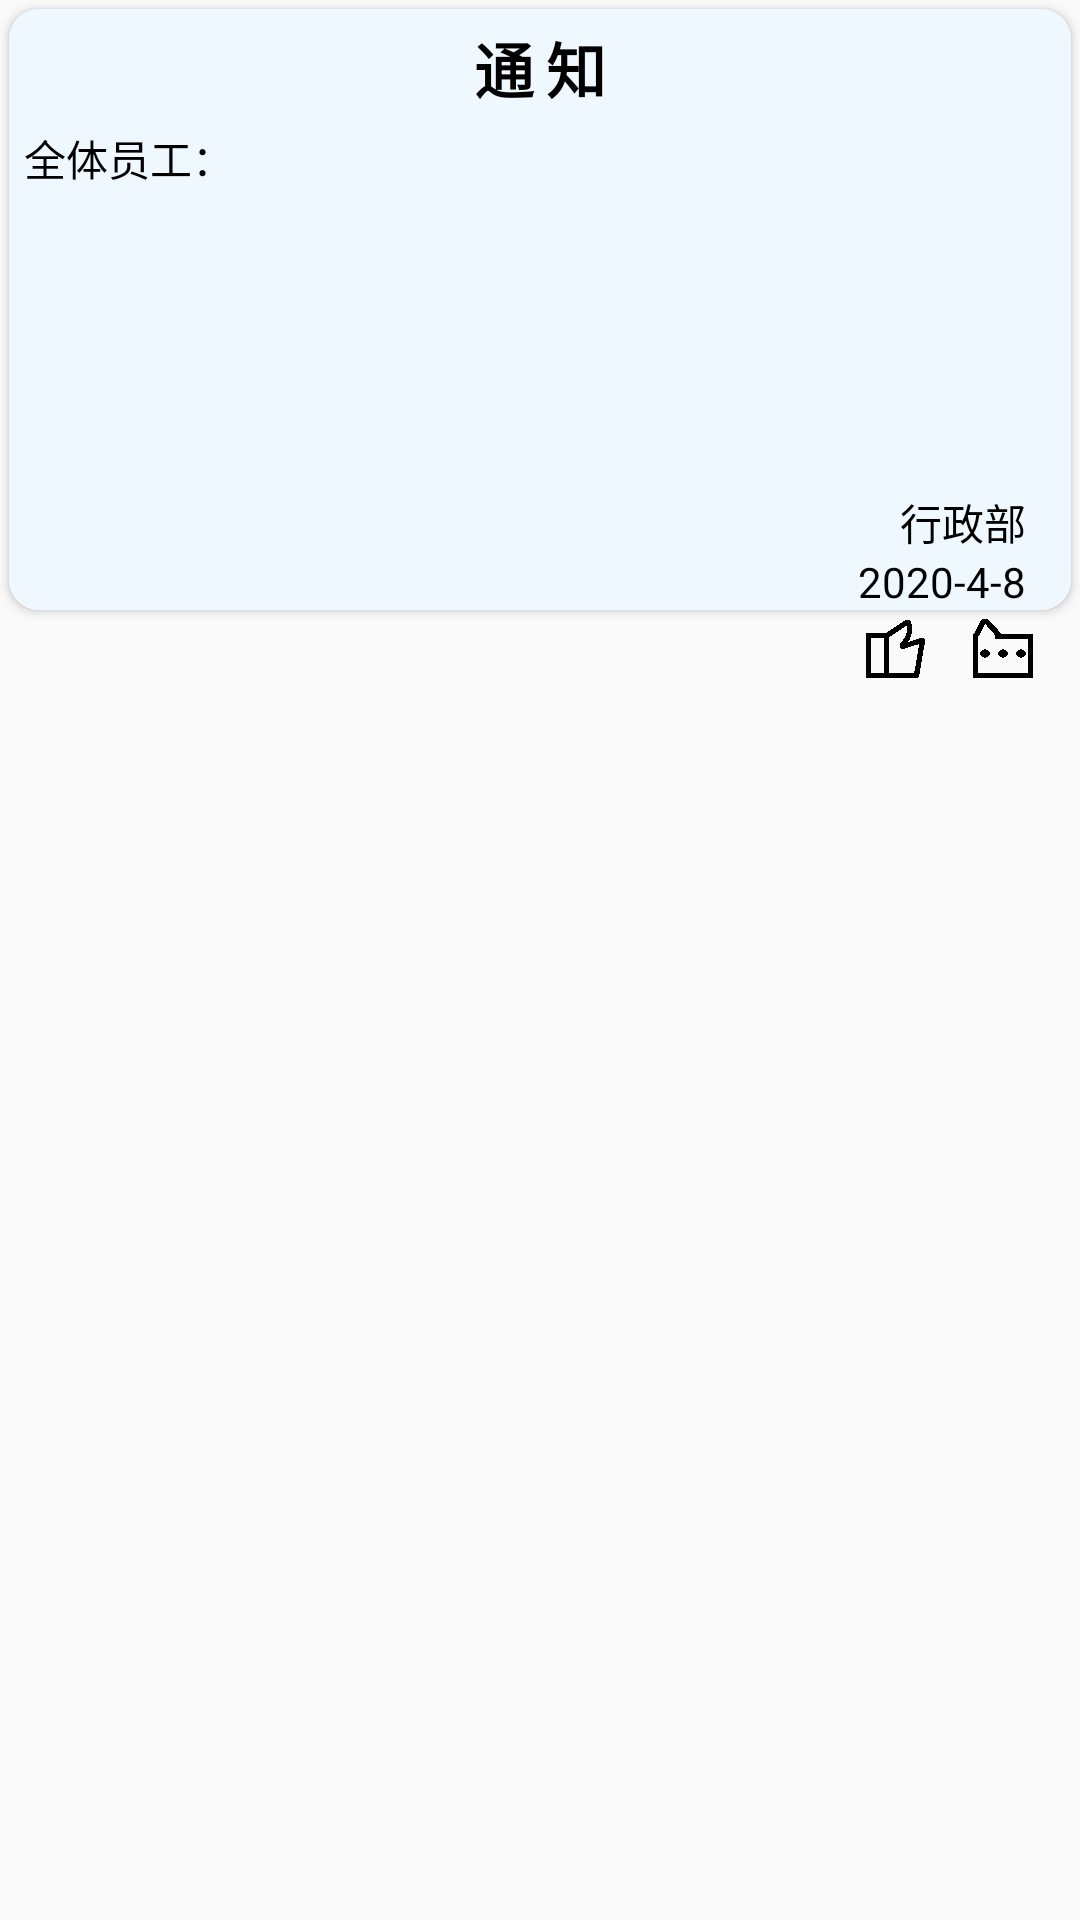

Where icons sit on this 1080px x 1920px app screen, as (x1, y1, x2, y2):
comment: (973, 619, 1033, 678)
good: (866, 620, 925, 678)
